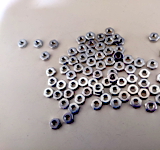nut: (119, 91, 131, 103), (91, 99, 103, 111), (69, 103, 80, 115), (146, 101, 157, 113), (127, 74, 139, 85), (110, 85, 122, 96), (64, 112, 74, 125), (50, 119, 61, 130), (131, 98, 142, 109), (111, 99, 122, 110), (59, 99, 70, 110), (53, 91, 64, 102), (147, 60, 159, 70), (139, 79, 151, 89), (139, 69, 151, 79), (93, 83, 105, 93), (101, 93, 111, 105), (149, 33, 160, 43), (49, 40, 60, 50), (33, 39, 44, 49), (40, 51, 51, 61), (150, 85, 160, 96), (117, 77, 128, 87), (44, 88, 54, 99), (66, 71, 77, 81), (128, 85, 139, 95), (140, 89, 150, 100), (126, 65, 137, 75), (102, 77, 113, 87), (108, 68, 119, 78), (75, 95, 86, 105), (78, 78, 89, 88), (68, 80, 78, 91), (58, 56, 69, 66), (59, 65, 70, 75), (18, 39, 28, 49), (135, 58, 145, 68), (64, 89, 74, 99), (96, 61, 106, 71), (57, 80, 67, 90), (124, 55, 134, 65), (83, 67, 93, 77), (115, 62, 125, 72), (93, 70, 103, 80), (88, 79, 98, 89), (86, 48, 96, 58), (68, 48, 79, 57), (93, 87, 104, 96), (76, 36, 87, 45), (74, 64, 85, 73), (46, 68, 56, 77), (106, 57, 116, 66), (83, 88, 93, 97), (78, 54, 88, 63), (78, 44, 87, 54), (47, 78, 58, 86), (114, 46, 125, 54), (105, 47, 114, 56), (87, 58, 96, 67), (115, 52, 124, 61), (97, 33, 106, 42), (105, 36, 114, 45), (112, 34, 121, 43), (116, 37, 125, 46), (69, 57, 78, 66), (105, 28, 115, 36), (96, 43, 106, 51), (109, 73, 119, 81), (96, 52, 106, 60), (86, 32, 95, 40), (88, 40, 96, 48), (156, 73, 160, 83), (156, 95, 160, 105)
